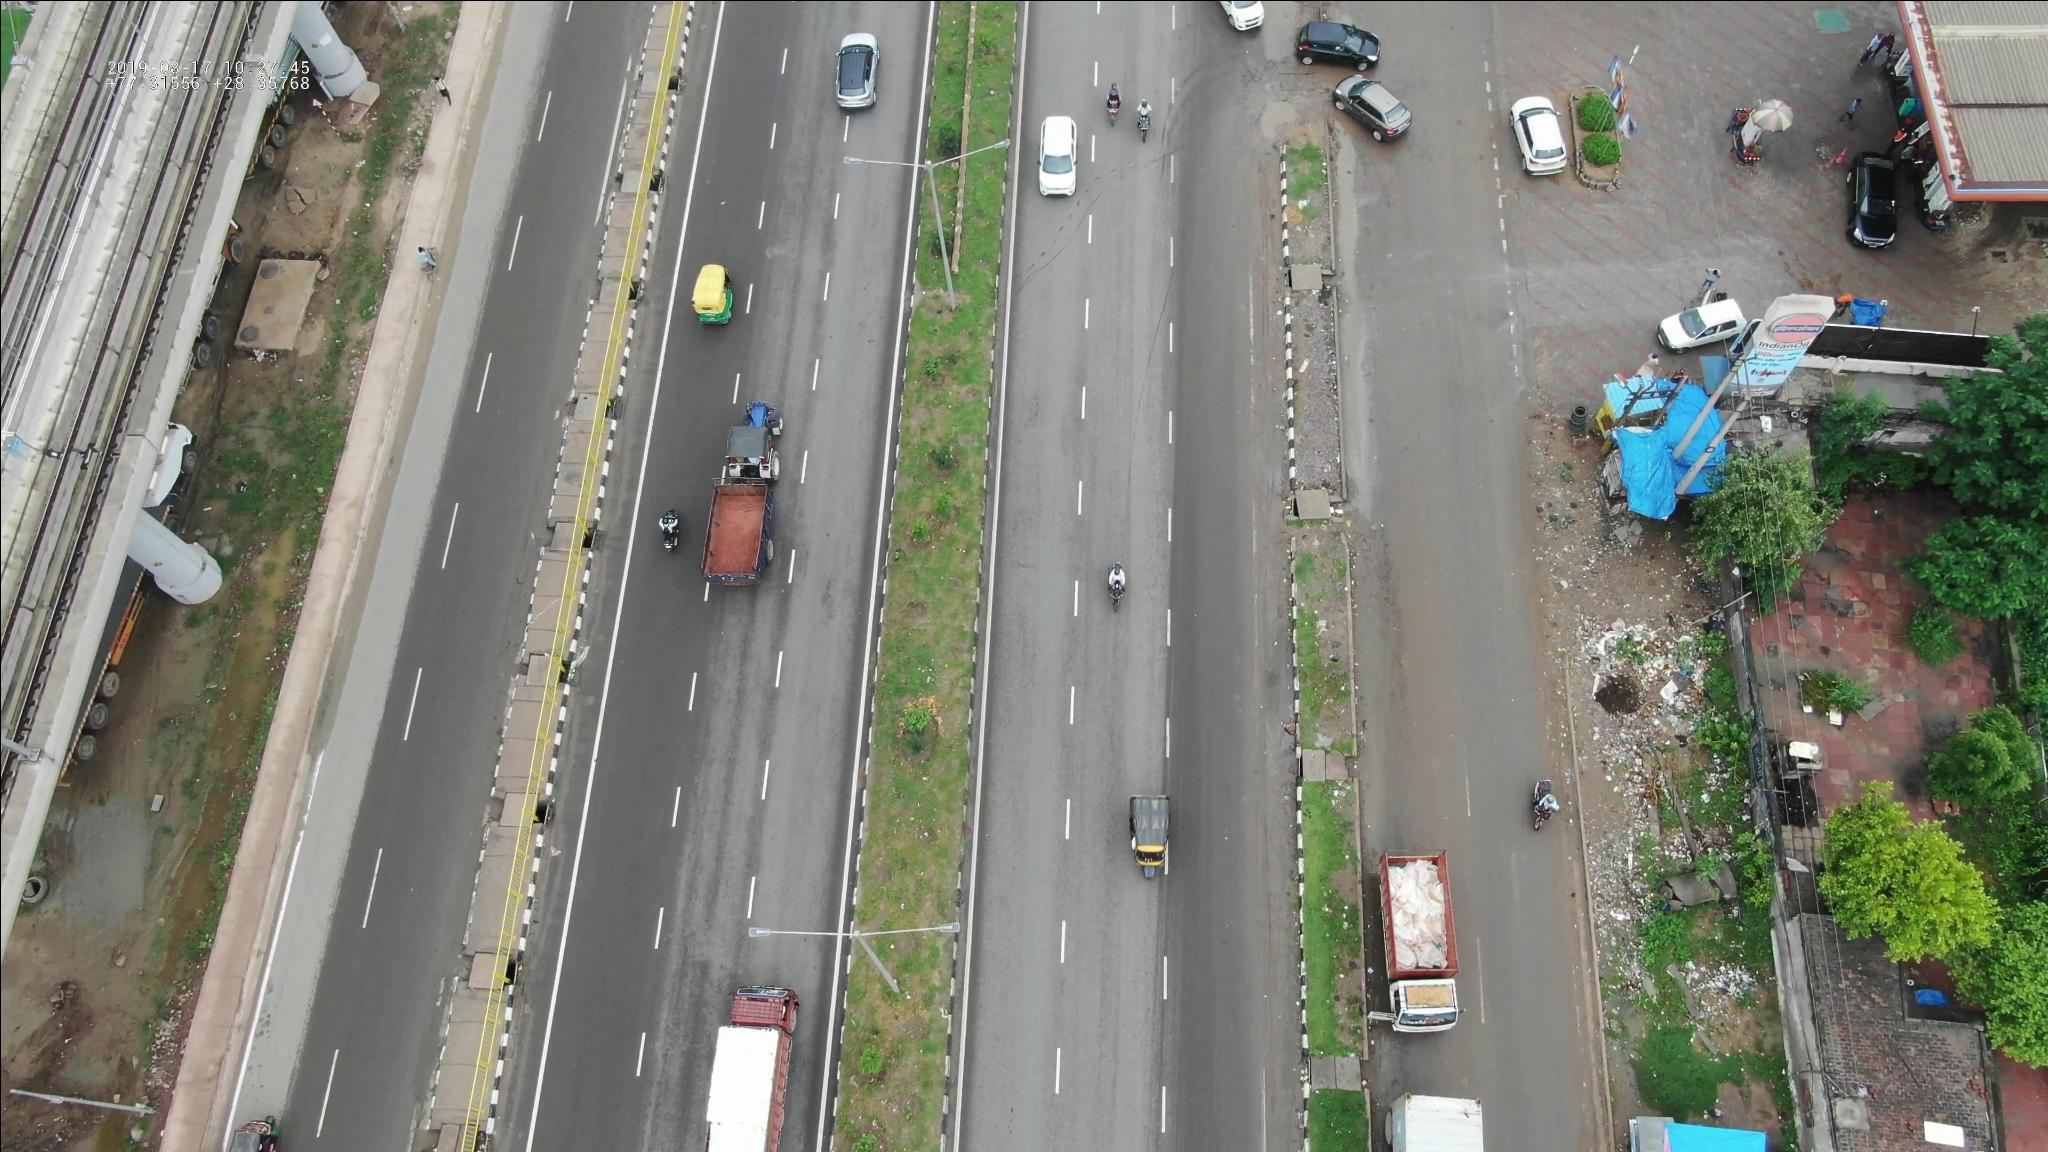Muddy_road: (1246, 273, 1283, 587)
Potholes: (1243, 87, 1303, 165)
Road_side_garbage: (1580, 627, 1743, 986)
Waterlogging: (1315, 139, 1390, 487), (1345, 527, 1404, 827)
